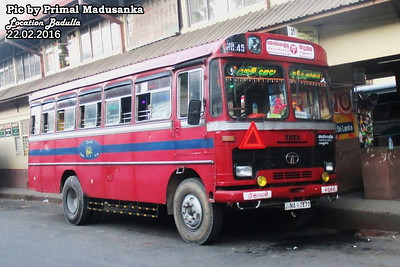bus: (28, 32, 339, 247)
